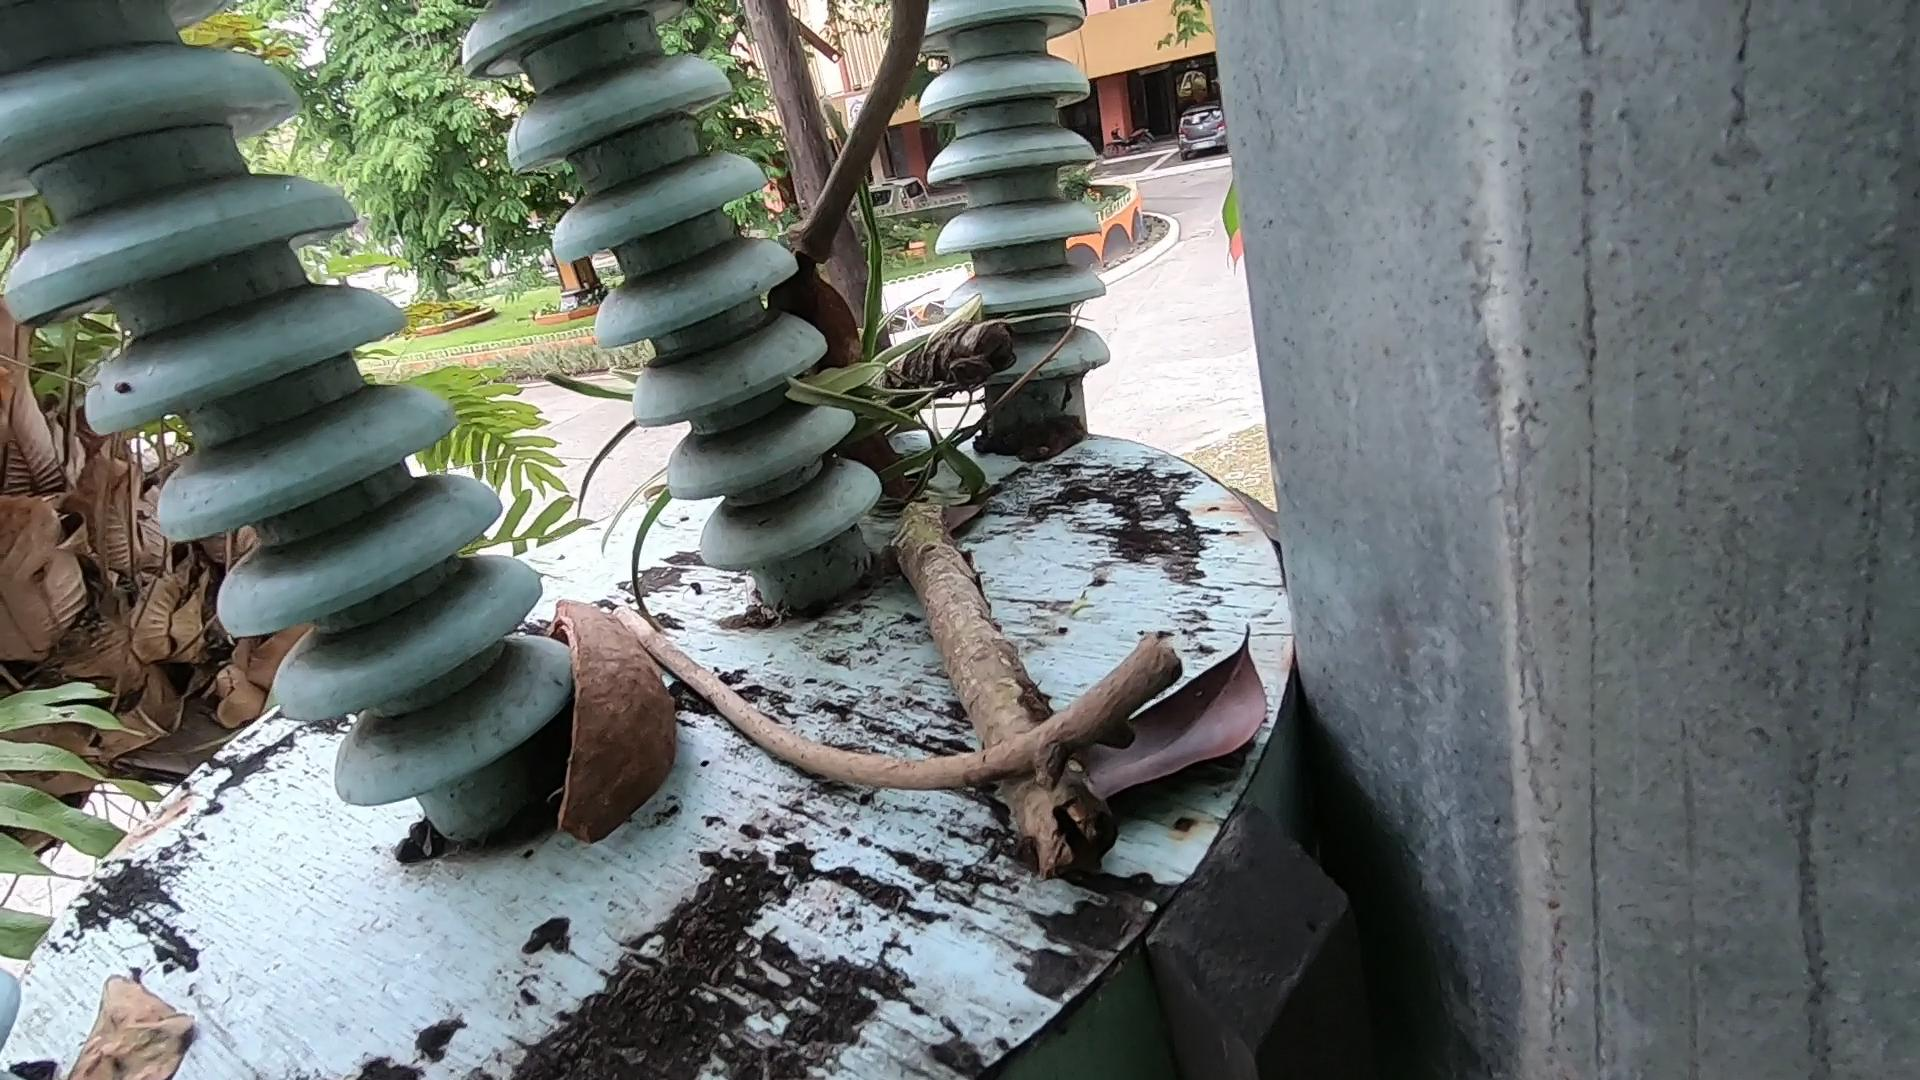branch with leaves: (775, 255, 1245, 982)
leaf: (1101, 613, 1280, 873), (41, 890, 178, 1080)
mahogany fruit: (741, 247, 989, 622), (516, 568, 712, 884)
tree branch: (560, 574, 1381, 882), (816, 1, 1015, 349)
